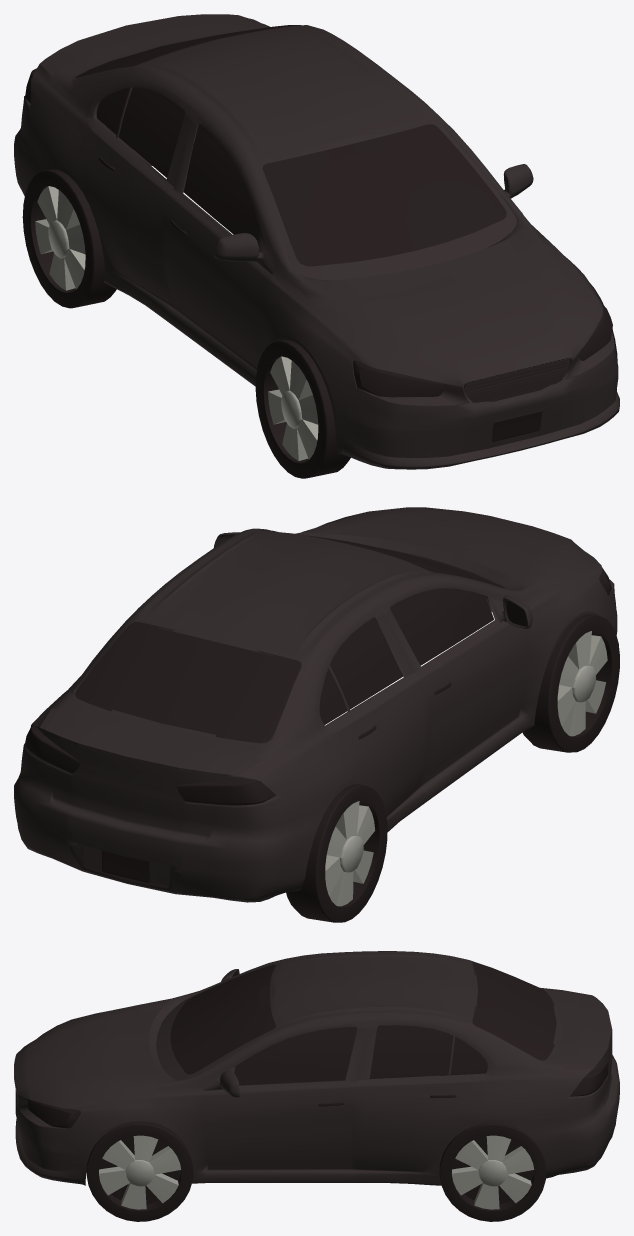
Rendered from Car.fbx.
The picture shows the model from 3 angles, top to bottom: view 1: azimuth 30°, elevation 25°; view 2: azimuth 150°, elevation 25°; view 3: azimuth 270°, elevation 25°; orthographic projection. The views are drawn at different scales.
Visible parts, largest first — view 1: polySurface32, polySurface1, polySurface4, polySurface25, polySurface28, polySurface27, polySurface30, polySurface5, polySurface2, polySurface21, polySurface34; view 2: polySurface32, polySurface2, polySurface4, polySurface25, polySurface28, polySurface27, polySurface30, polySurface31, polySurface33, polySurface6, polySurface1; view 3: polySurface32, polySurface3, polySurface1, polySurface2, polySurface14, polySurface29, polySurface24, polySurface15, polySurface34, polySurface33.
Part boxes in pixels (bbox=[...]): polySurface32: bbox=[14, 14, 619, 469]; polySurface1: bbox=[262, 124, 506, 266]; polySurface4: bbox=[97, 87, 260, 240]; polySurface25: bbox=[22, 169, 116, 308]; polySurface28: bbox=[255, 339, 350, 478]; polySurface27: bbox=[268, 356, 318, 460]; polySurface30: bbox=[35, 186, 85, 290]; polySurface5: bbox=[353, 361, 443, 397]; polySurface2: bbox=[75, 25, 300, 77]; polySurface21: bbox=[492, 410, 542, 441]; polySurface34: bbox=[579, 303, 612, 360]; polySurface32: bbox=[14, 507, 618, 902]; polySurface2: bbox=[75, 622, 301, 743]; polySurface4: bbox=[319, 588, 494, 724]; polySurface25: bbox=[286, 784, 387, 922]; polySurface28: bbox=[522, 614, 619, 752]; polySurface27: bbox=[557, 631, 607, 736]; polySurface30: bbox=[325, 801, 375, 906]; polySurface31: bbox=[176, 778, 276, 805]; polySurface33: bbox=[25, 725, 80, 773]; polySurface6: bbox=[102, 850, 150, 883]; polySurface1: bbox=[306, 535, 501, 587]; polySurface32: bbox=[14, 951, 619, 1185]; polySurface3: bbox=[234, 1025, 487, 1085]; polySurface1: bbox=[170, 965, 275, 1074]; polySurface2: bbox=[472, 962, 556, 1060]; polySurface14: bbox=[439, 1123, 546, 1221]; polySurface29: bbox=[86, 1123, 193, 1221]; polySurface24: bbox=[99, 1135, 181, 1209]; polySurface15: bbox=[452, 1135, 534, 1209]; polySurface34: bbox=[27, 1099, 80, 1128]; polySurface33: bbox=[569, 1061, 608, 1096].
Size of the model in its own units: 5.26 by 3.99 by 11.52.
1 material, 1 textured.
